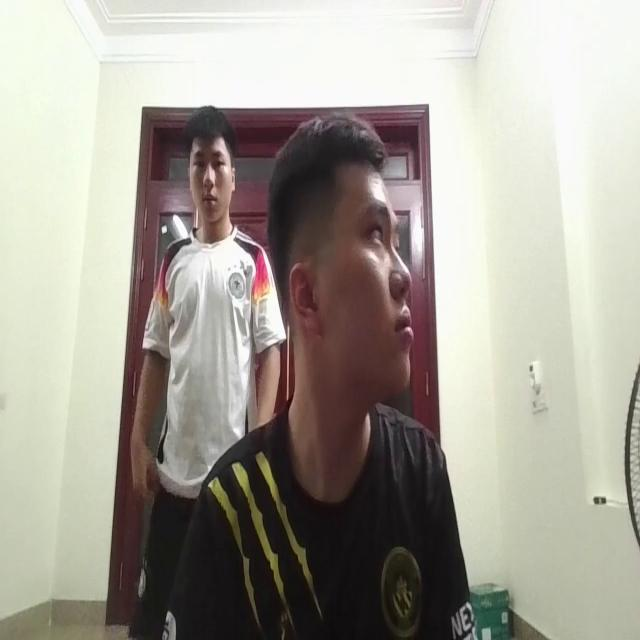extra_person: (118, 104, 290, 570)
student: (190, 108, 464, 640)
